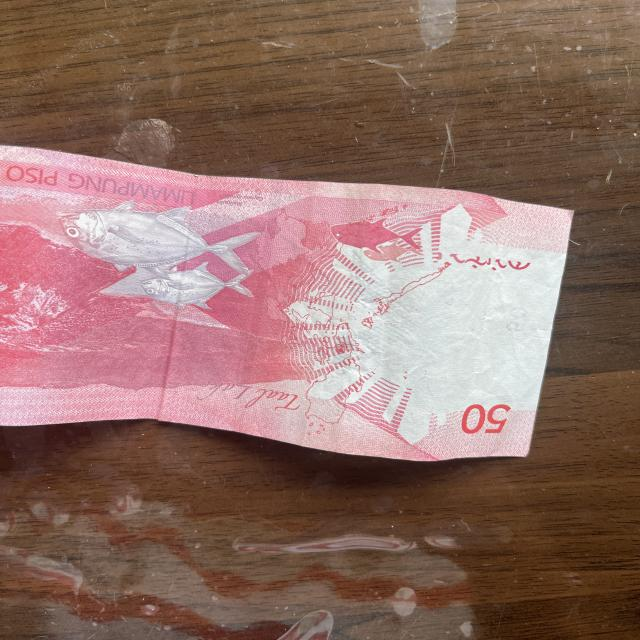50_maliputo: (56, 188, 268, 317)
50_maliputo_watermark: (311, 214, 426, 264)
watermark: (410, 268, 542, 397)
